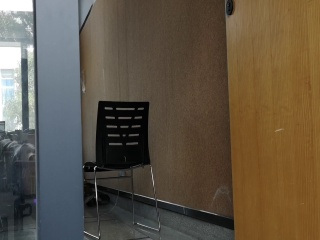room: (3, 1, 320, 231)
